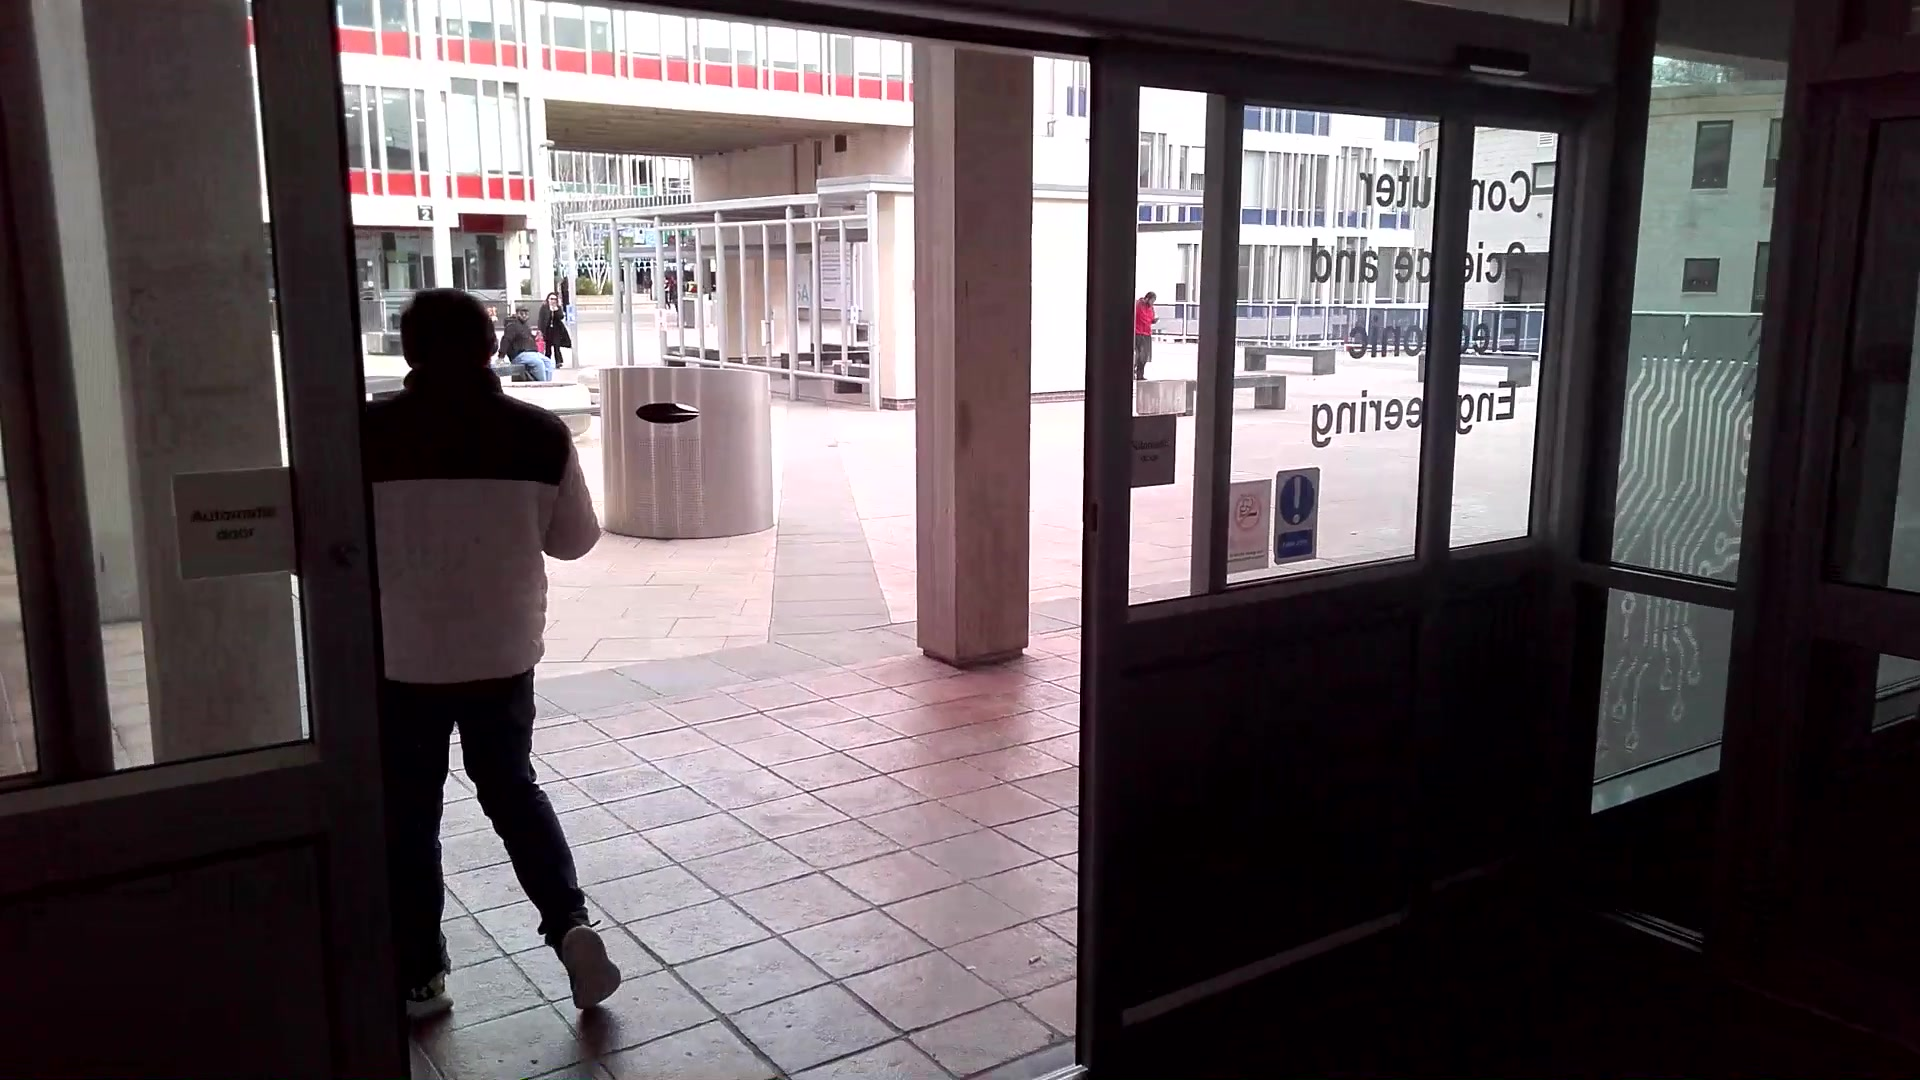Bin: (609, 358, 780, 551)
Person: (368, 281, 617, 1022)
